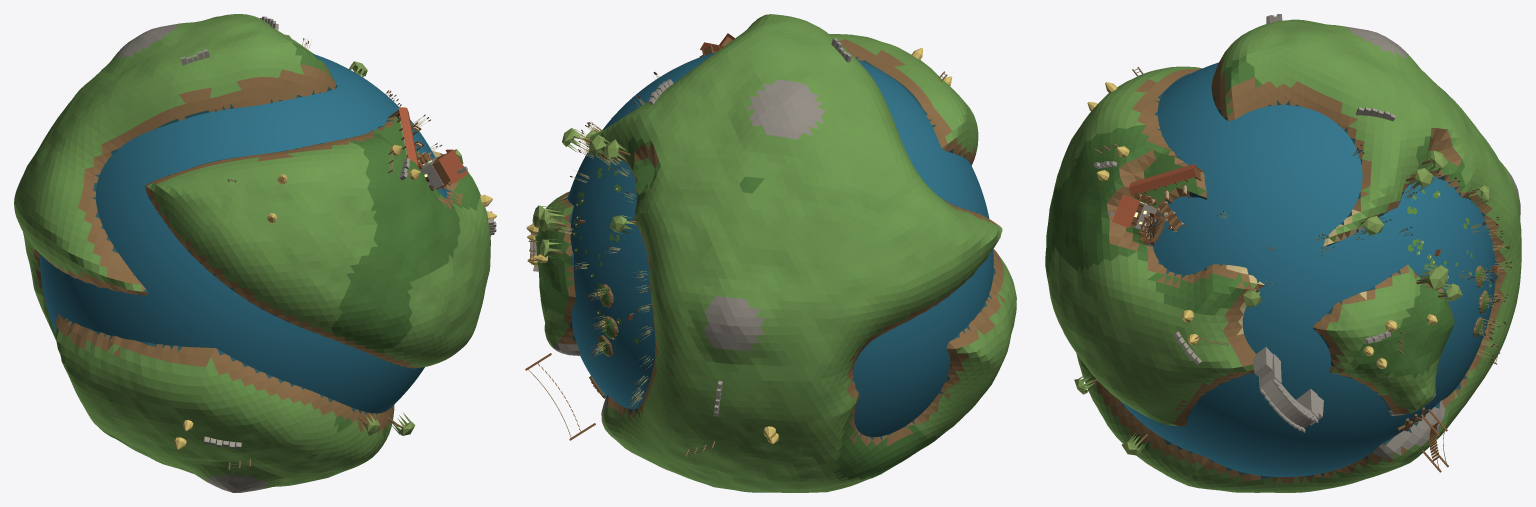
File: w_005-riverlands.glb
3 renders of one model, left to right at view 1: azimuth 30°, elevation 25°; view 2: azimuth 150°, elevation 25°; view 3: azimuth 270°, elevation 25°, orthographic. The views are drawn at different scales.
Visible parts, largest first — view 1: Water, Island_far-hills-02, Island_mill-01, Island_north-downs-01, Island_far-hills-01, Island_north-downs-03, Island_far-hills-04, Island_hollow-02, Island_north-downs-02, Island_mill-04, Island_far-hills-05, Island_mill-02 (+7 smaller); view 2: Water, Island_reedmarsh-02, Island_north-downs-02, Island_reedmarsh-01, Island_hollow-03, Island_hollow-02, Island_reedmarsh-03, Island_willow-01, Island_far-hills-01, Island_north-downs-03, Island_north-downs-01, Island_hollow-01 (+4 smaller); view 3: Water, Island_willow-01, Island_mill-02, Island_mill-01, Island_stone-bridge-01, Island_reedmarsh-03, Island_mill-03, Island_river-mouth-01, Island_wide-water-01, Island_narrows-02, Island_stone-bridge-02, Island_north-downs-03 (+13 smaller).
Part boxes in pixels (x1,y1,x2,y2): Water: (39, 53, 446, 413); Island_far-hills-02: (181, 347, 383, 487); Island_mill-01: (335, 171, 476, 352); Island_north-downs-01: (145, 141, 374, 263); Island_far-hills-01: (55, 314, 195, 460); Island_north-downs-03: (146, 14, 293, 131); Island_far-hills-04: (201, 234, 362, 344); Island_hollow-02: (14, 119, 124, 279); Island_north-downs-02: (47, 21, 200, 143); Island_mill-04: (366, 278, 478, 368); Island_far-hills-05: (61, 222, 148, 295); Island_mill-02: (432, 151, 490, 289); Water: (568, 52, 993, 436); Island_reedmarsh-02: (693, 158, 871, 371); Island_north-downs-02: (715, 68, 910, 232); Island_reedmarsh-01: (623, 364, 824, 488); Island_hollow-03: (730, 289, 910, 463); Island_hollow-02: (860, 154, 990, 320); Island_reedmarsh-03: (634, 181, 719, 387); Island_willow-01: (597, 47, 739, 201); Island_far-hills-01: (901, 254, 1016, 457); Island_north-downs-03: (720, 14, 886, 102); Island_north-downs-01: (830, 34, 978, 164); Island_hollow-01: (723, 429, 911, 492); Water: (1120, 62, 1495, 476); Island_willow-01: (1305, 54, 1470, 215); Island_mill-02: (1098, 234, 1264, 367); Island_mill-01: (1045, 134, 1125, 324); Island_stone-bridge-01: (1312, 264, 1424, 389); Island_reedmarsh-03: (1449, 113, 1521, 297); Island_mill-03: (1097, 121, 1208, 240); Island_river-mouth-01: (1211, 52, 1320, 120); Island_wide-water-01: (1117, 419, 1320, 492); Island_narrows-02: (1373, 276, 1454, 415); Island_stone-bridge-02: (1103, 343, 1211, 426); Island_north-downs-03: (1211, 19, 1363, 87).
Bounding box in the file's own units: 11.78 × 11.23 × 11.21.
